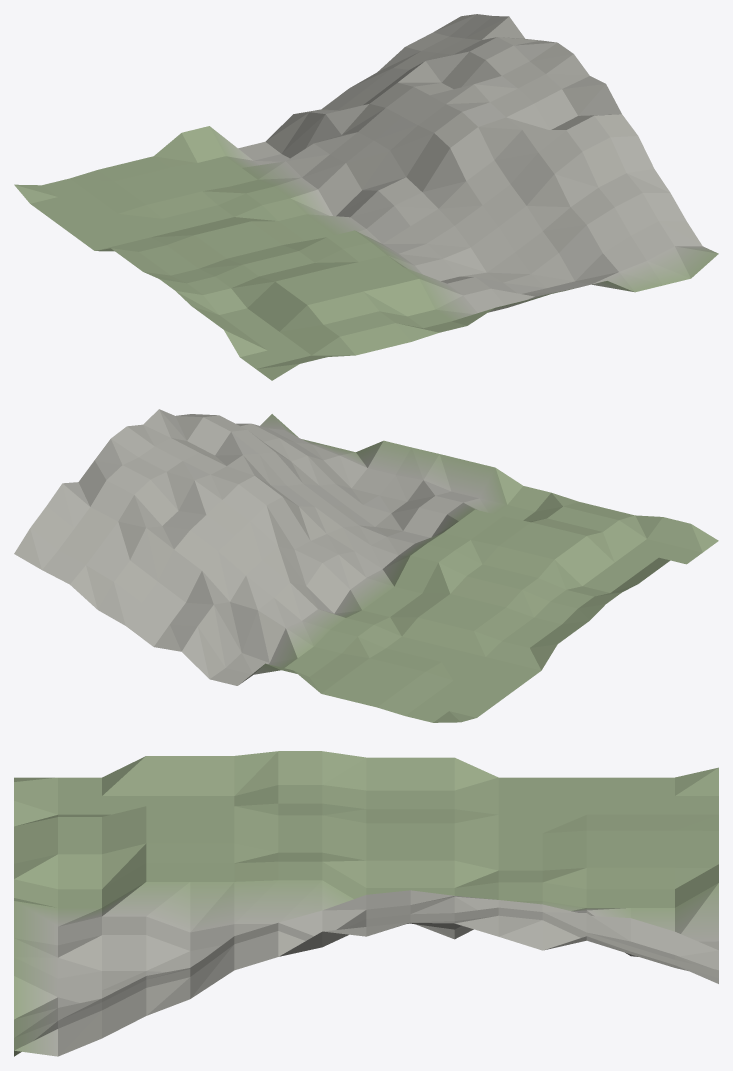
3 renders of one model, top to bottom at view 1: azimuth 30°, elevation 25°; view 2: azimuth 150°, elevation 25°; view 3: azimuth 270°, elevation 25°, orthographic. The views are drawn at different scales.
Bounding box in the file's own units: 32 × 8.43 × 32.
